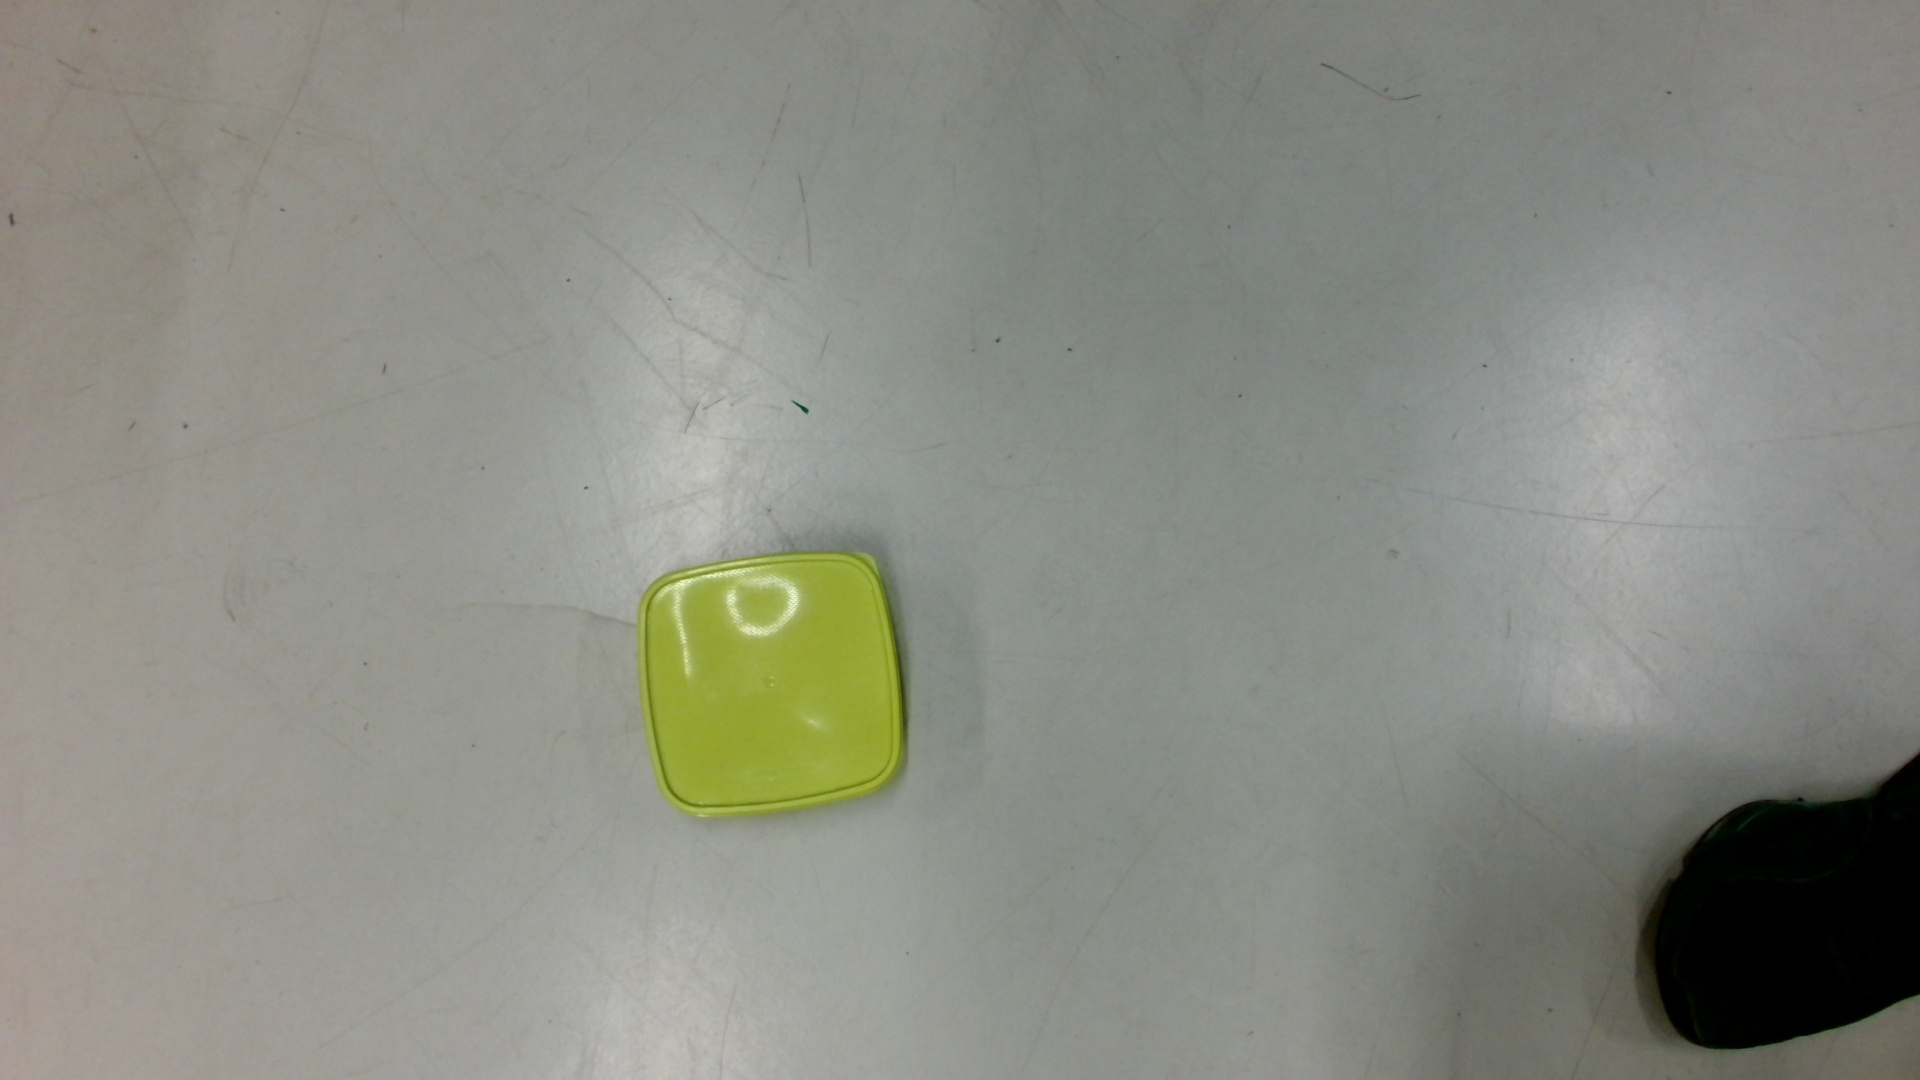Box: (629, 545, 916, 828)
